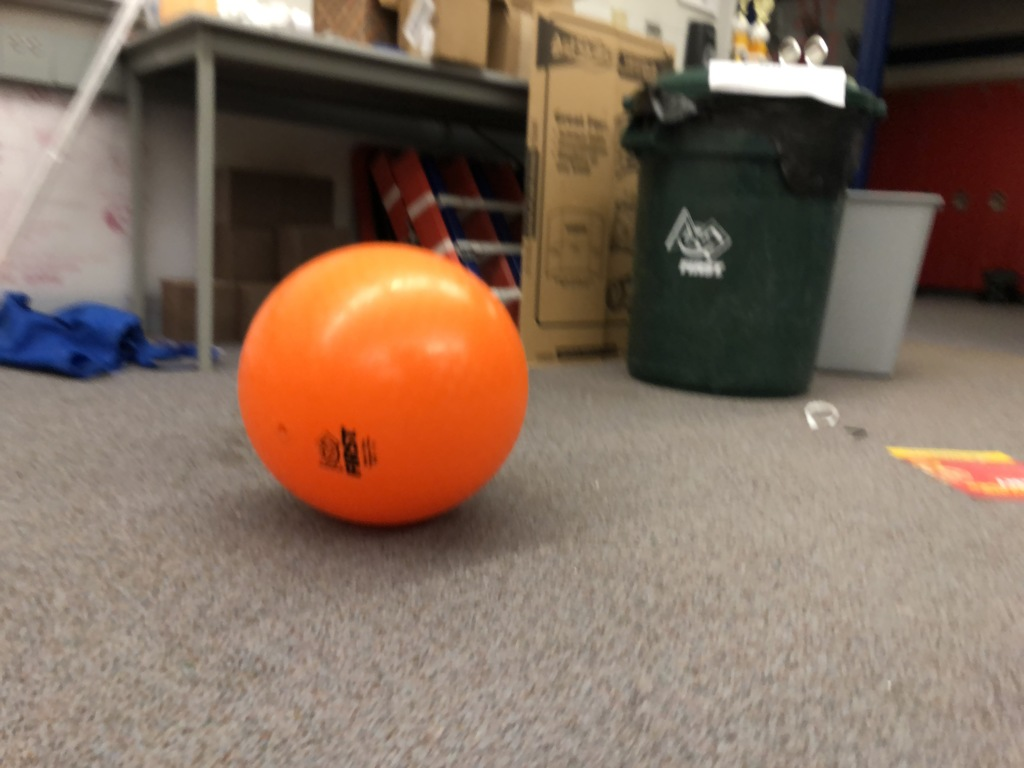cargo: (225, 235, 540, 534)
